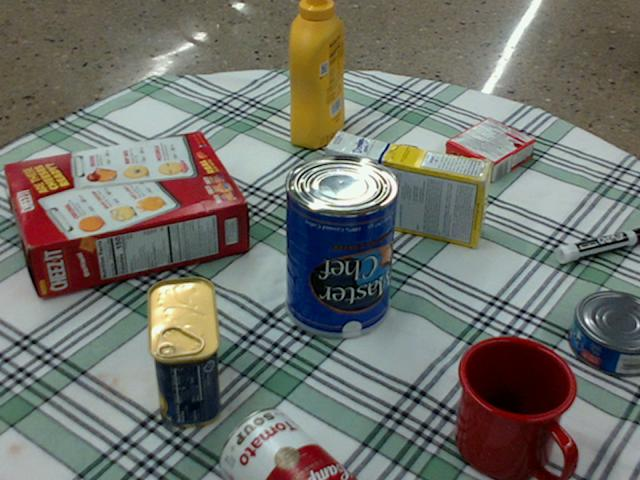cracker_box: (5, 132, 244, 296)
gelatin_box: (444, 118, 534, 182)
large_marker: (556, 227, 639, 262)
master_chef_can: (286, 154, 399, 336)
mug: (454, 336, 576, 479)
mustard_bottle: (288, 0, 343, 147)
potted_meat_can: (146, 277, 221, 426)
sugar_box: (323, 132, 492, 248)
tomato_soup_can: (218, 409, 353, 479)
tuna_fish_can: (569, 291, 639, 376)
